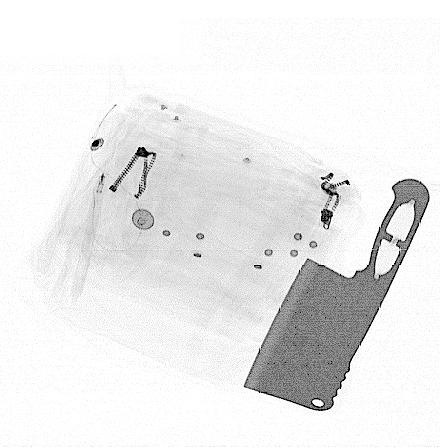Knife: (241, 177, 431, 413)
